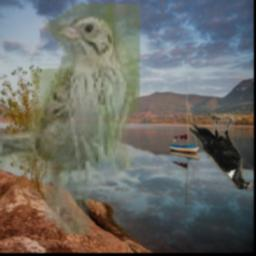Crow: (188, 114, 252, 189)
Sparrow: (0, 5, 140, 239)
